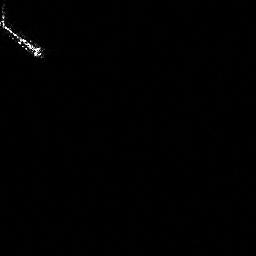ship: (1, 19, 43, 56)
